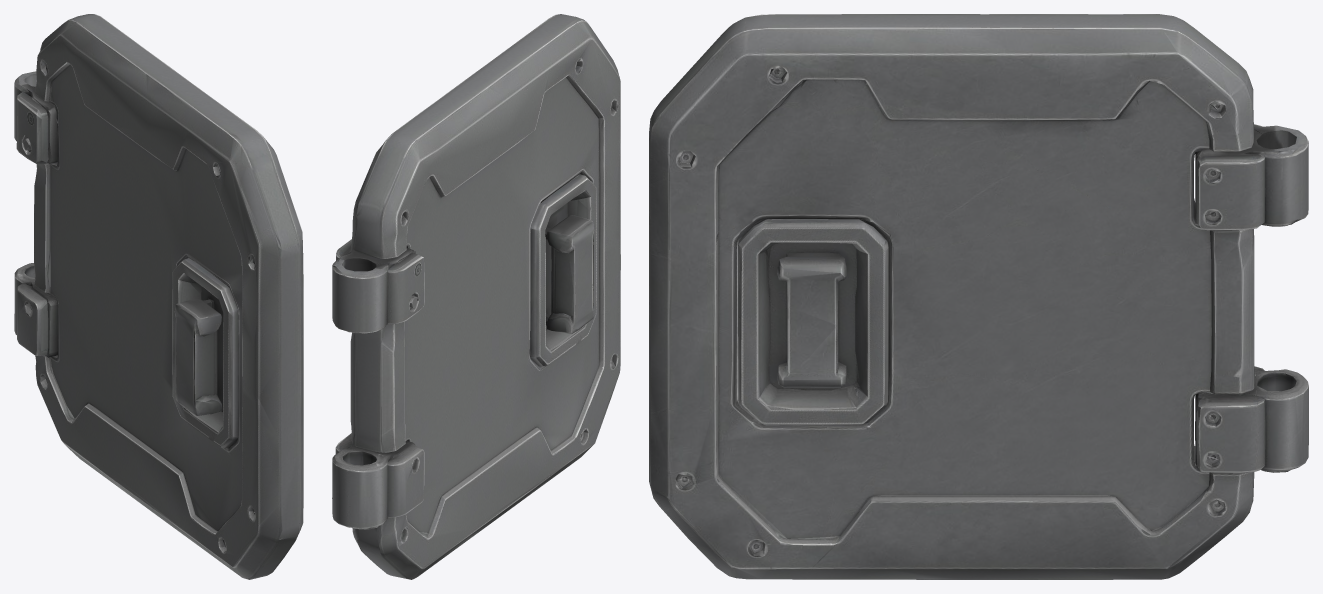
Rendered from shared_escape_pod__hatch.glb.
3 renders of one model, left to right at view 1: azimuth 30°, elevation 25°; view 2: azimuth 150°, elevation 25°; view 3: azimuth 270°, elevation 25°, orthographic. The views are drawn at different scales.
Visible parts, largest first — view 1: mesh_node; view 2: mesh_node; view 3: mesh_node.
Part boxes in pixels (<box>): mesh_node: <box>14,14,303,579</box>; mesh_node: <box>332,14,620,579</box>; mesh_node: <box>649,14,1308,579</box>.
Size of the model in its own units: 0.2774 by 1.55 by 1.68.
1 material, 1 textured.
